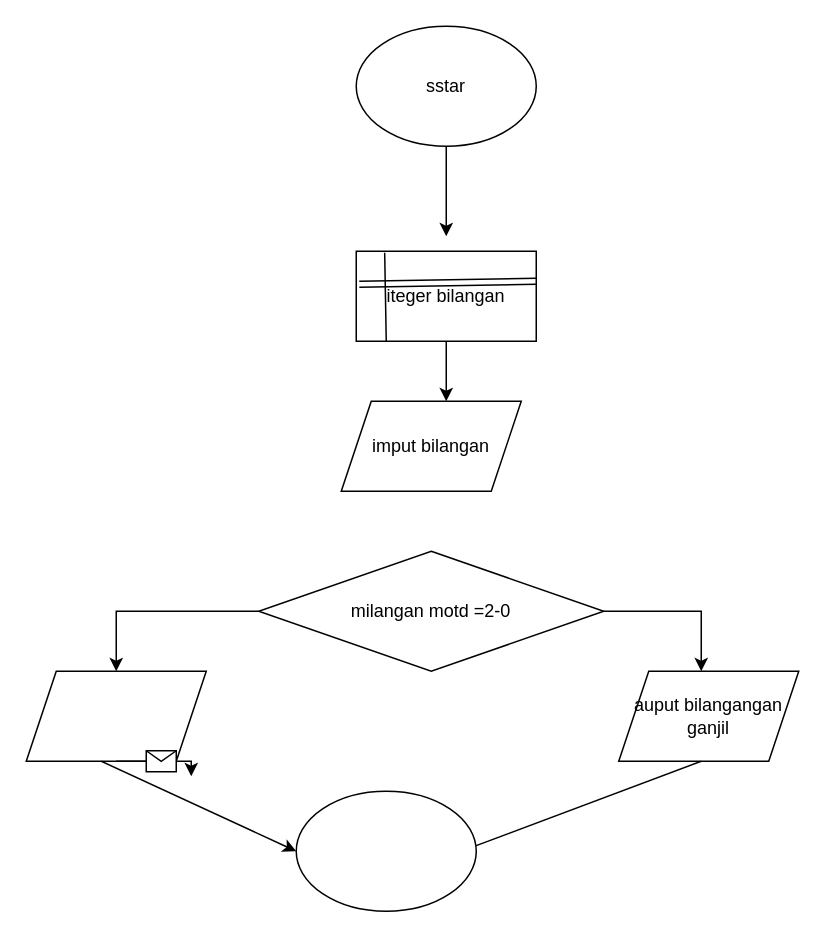
The diagram is 825 pixels wide and 938 high, and some of its shapes have lost their labels. Each missing label, with the centre of its shape:
"auput bilangan genap" belongs at (x=115, y=715).
"selsai" belongs at (x=385, y=850).
